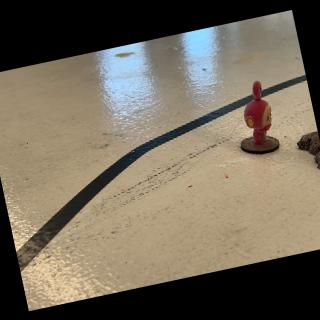teletubby: (243, 80, 271, 145)
